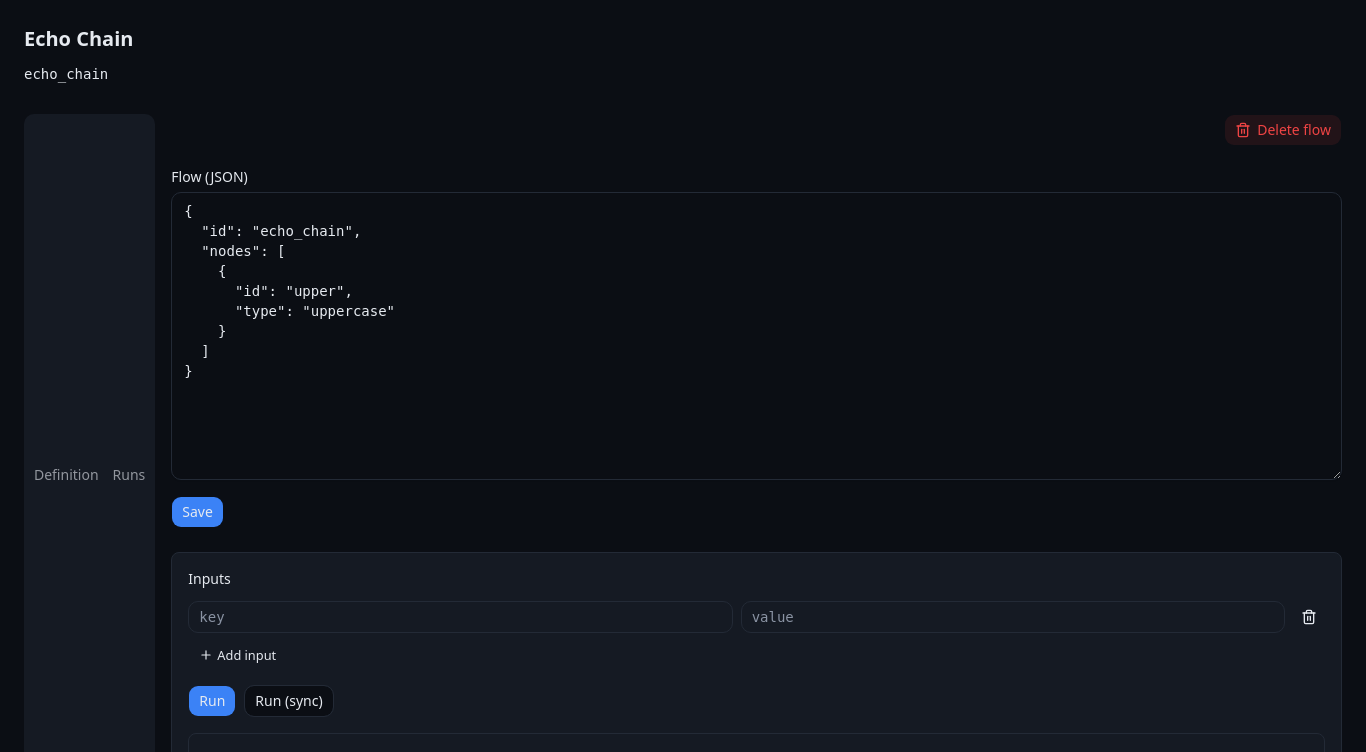
Test case: DeleteFlowDialog — red confirm, 204=success, route back (Task 3 / IC-1) › opens a RED "Delete flow?" confirm naming the flow + run history, Delete repeats the verb
The width and height of the screenshot is (1366, 752).
Expected: the text box named "flow json" is shown, 171,192 -> 1342,480
What coordinates should you click on to do the following:
click the button "Delete flow"
I would click on:
 (1283, 130)
Its box is 1224,114 -> 1342,146.
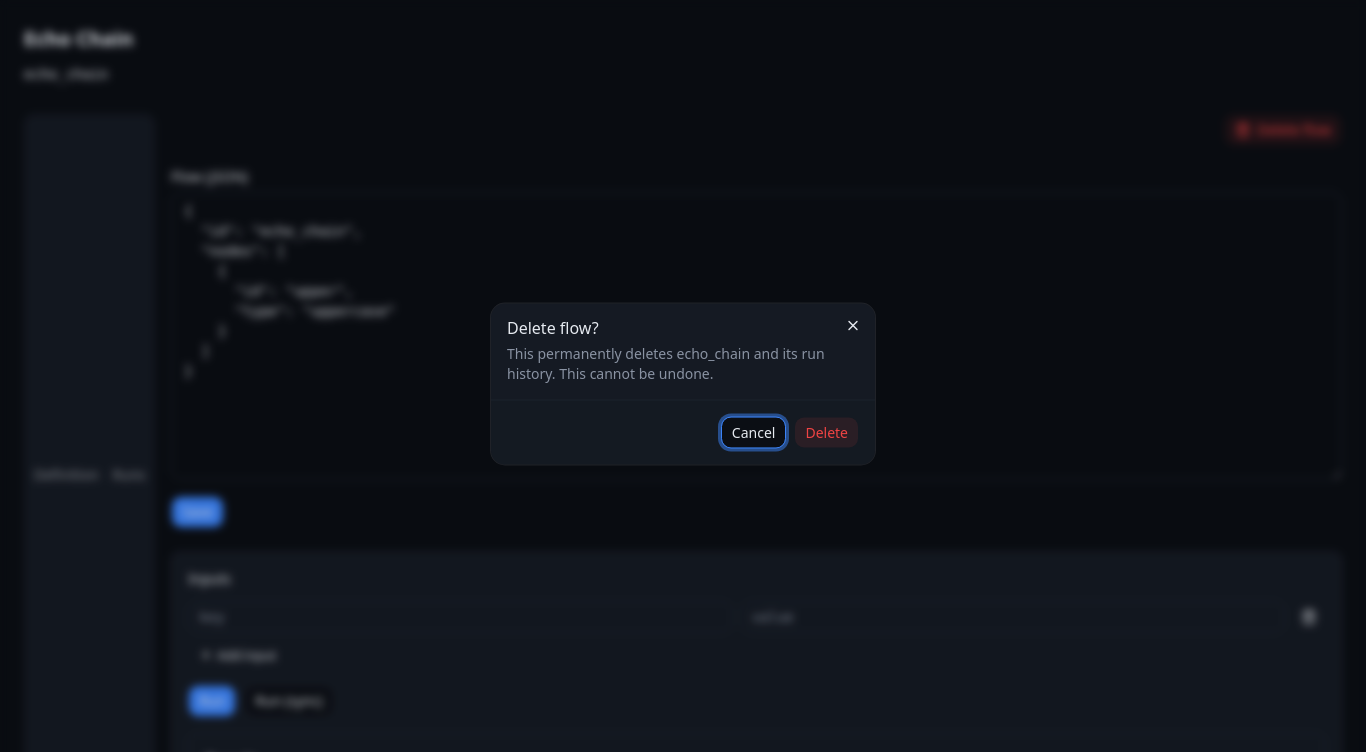
Expected: the heading "Delete flow?" is shown, 507,316 -> 599,338
Expected: the text "echo_chain" is shown, 677,344 -> 750,362
Expected: the text "run history" is shown, 507,344 -> 824,382
